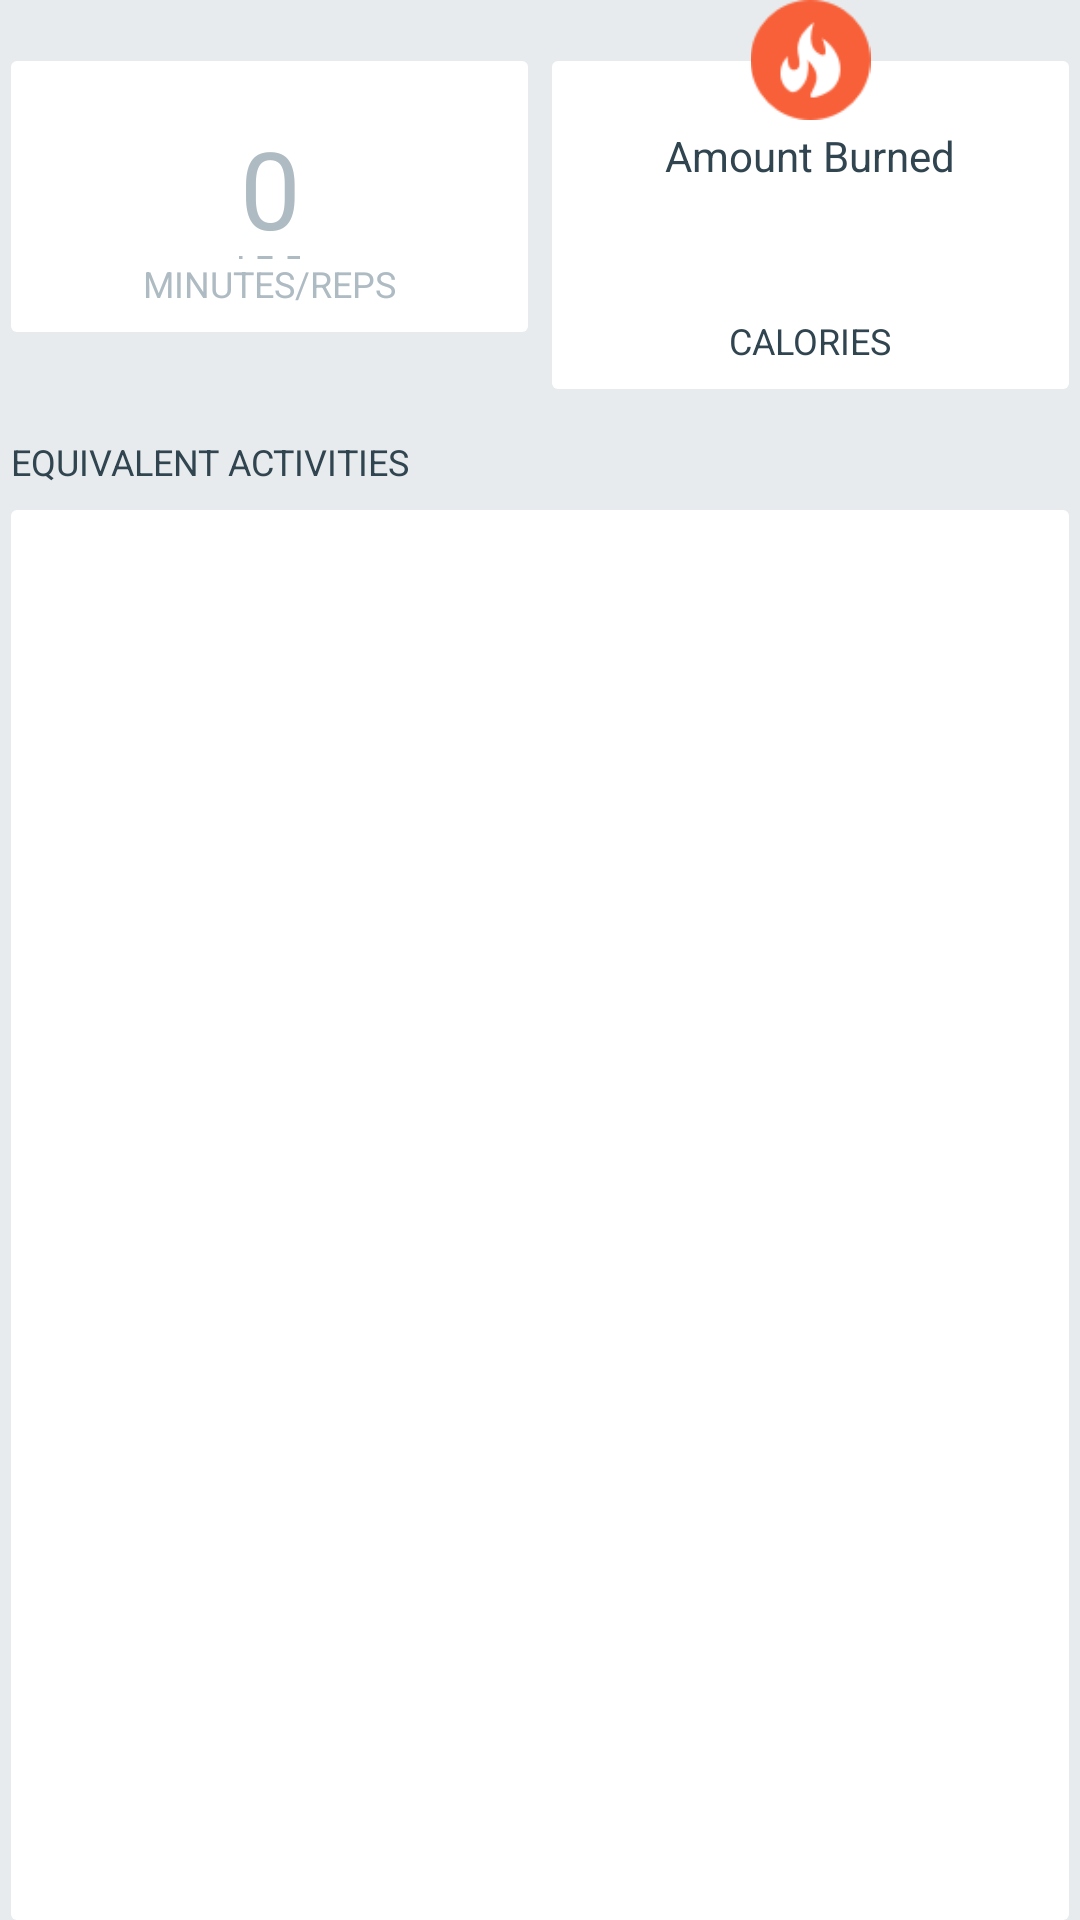

Icon bounding boxes for this 1080w x 1920h phone screenshot, format {"left": x1, "top": y1, "right": x2, "bottom": y2}:
calories: {"left": 751, "top": 0, "right": 871, "bottom": 120}
